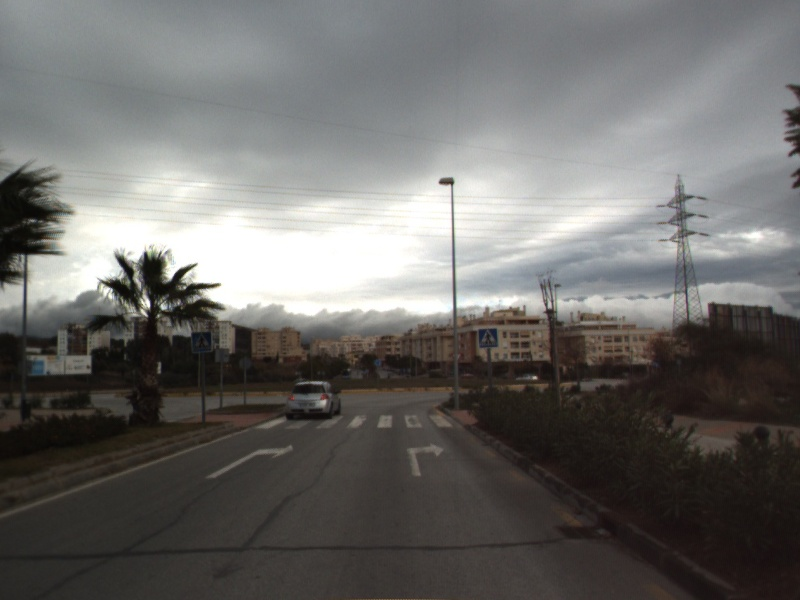RIGHT: (204, 442, 295, 480), (405, 441, 446, 478)
